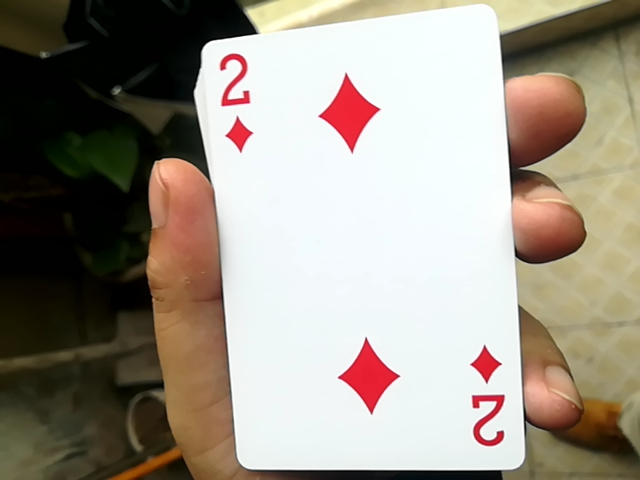fk 2: (184, 0, 516, 471)
